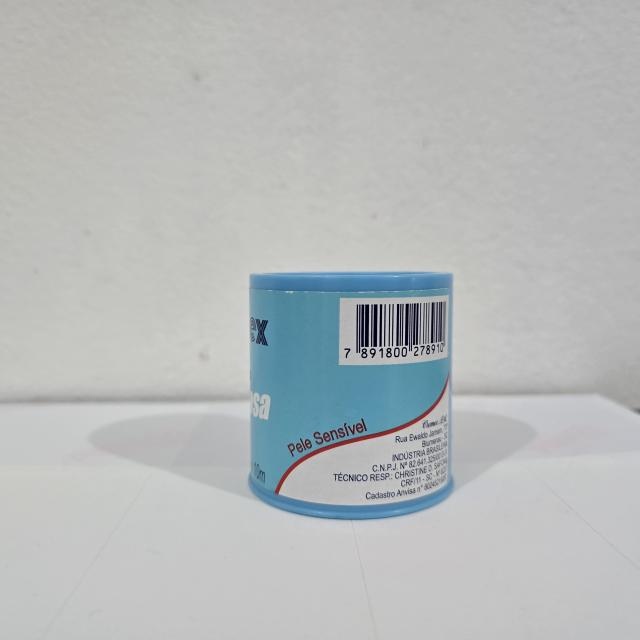procitex: (244, 266, 457, 523)
